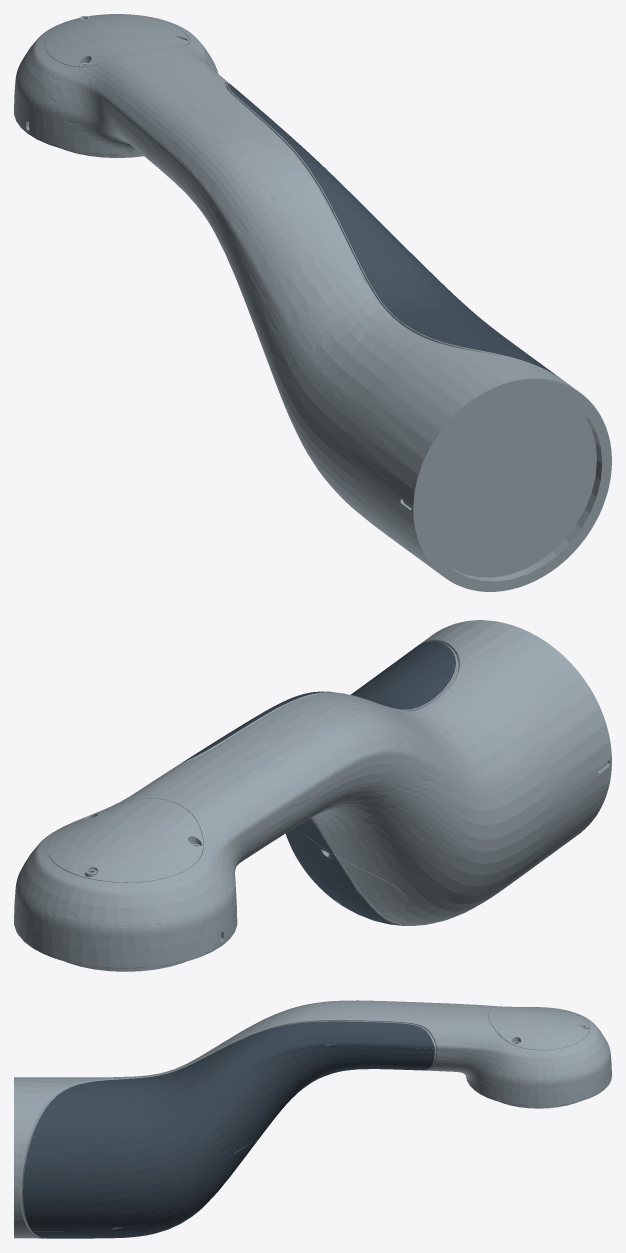
The picture shows the model from 3 angles, top to bottom: view 1: azimuth 30°, elevation 25°; view 2: azimuth 150°, elevation 25°; view 3: azimuth 270°, elevation 25°; orthographic projection. The views are drawn at different scales.
Visible parts, largest first — view 1: link5_link5.001; view 2: link5_link5.001; view 3: link5_link5.001.
Part boxes in pixels (<box>): link5_link5.001: <box>14,14,611,591</box>; link5_link5.001: <box>14,620,611,971</box>; link5_link5.001: <box>14,1000,611,1238</box>.
Size of the model in its own units: 0.1178 by 0.159 by 0.4111.
